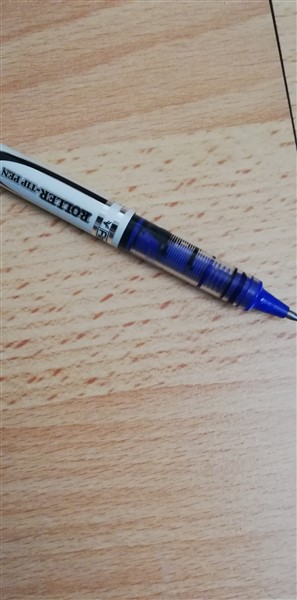pilot kalem: (1, 127, 297, 335)
